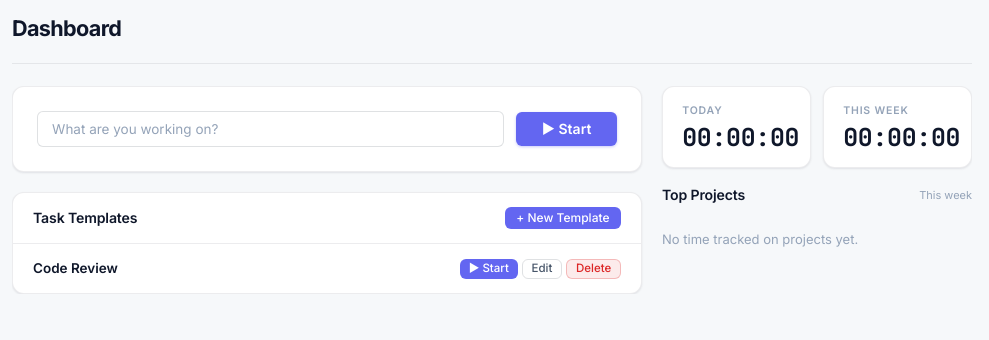
Test case: DashboardPage — Task Templates (US-027) › refreshes topbar immediately after starting template without page reload
Step 1. Click the button with test id "template-start-btn-2" → [489, 269], box [460, 259, 518, 279]
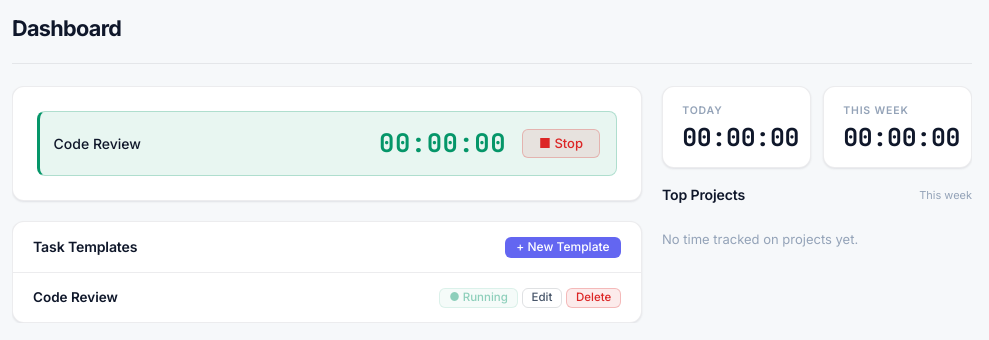
Now the button with test id "template-running-indicator-2" is shown, box [439, 288, 518, 308]
